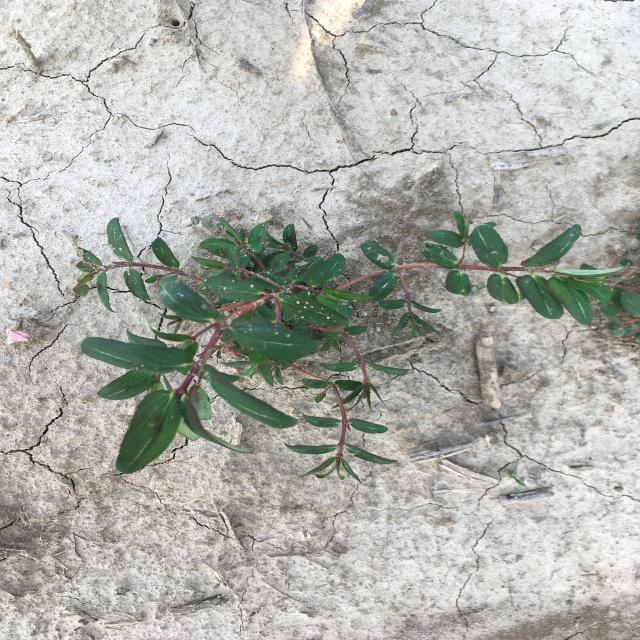SpottedSpurge: (74, 212, 639, 486)
